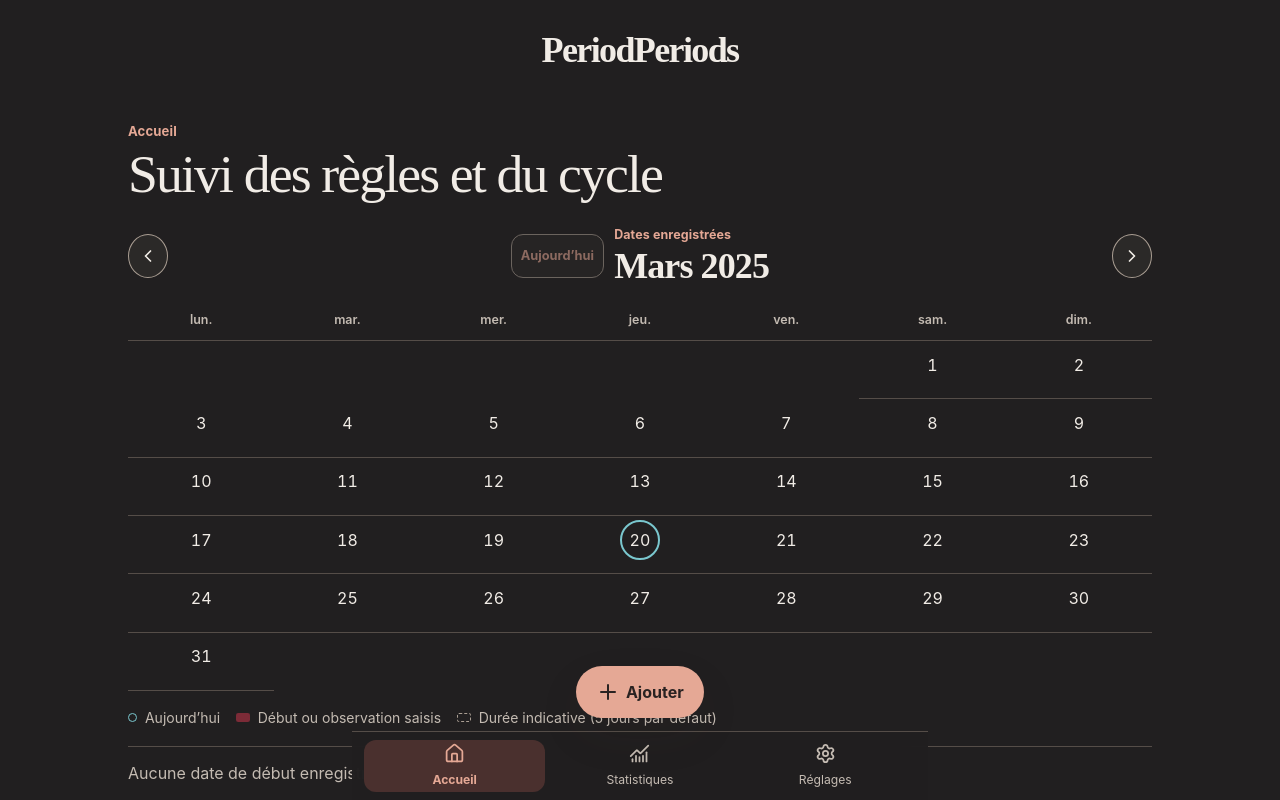
Scenario: PeriodPeriods app › preserves a previously saved explicit theme instead of switching it to System
Click the button "Réglages" at [825, 766], box [735,740,916,792]
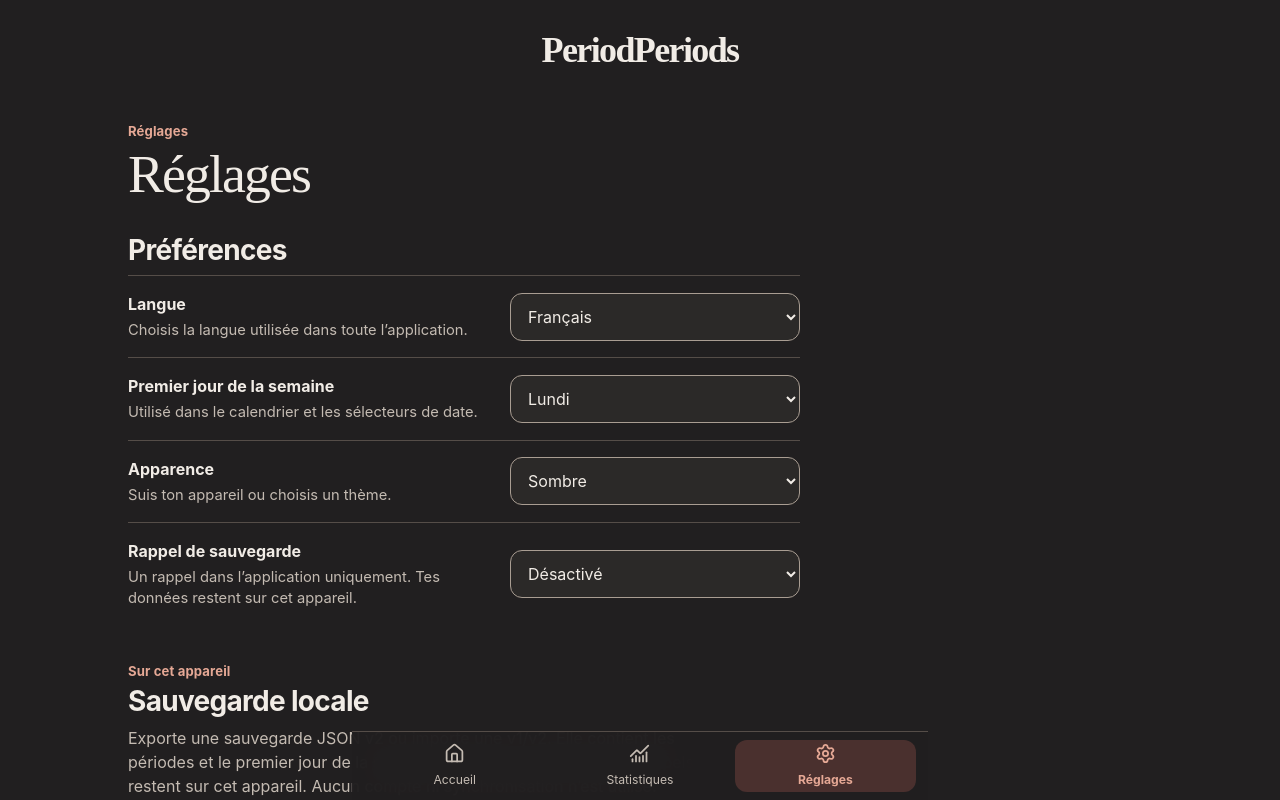
Expected: the dropdown labelled "Apparence" shows "Sombre", [510,457,800,505]
